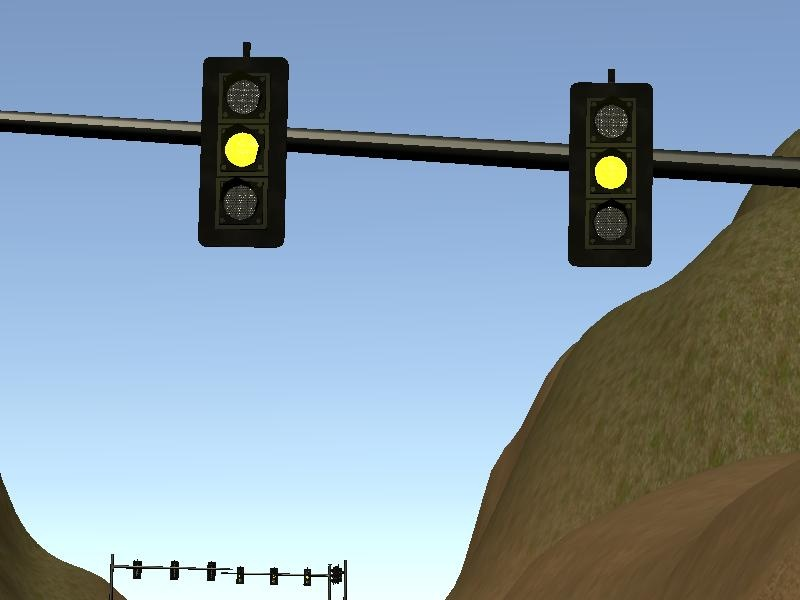yellow: (188, 40, 293, 257), (559, 67, 660, 274)
